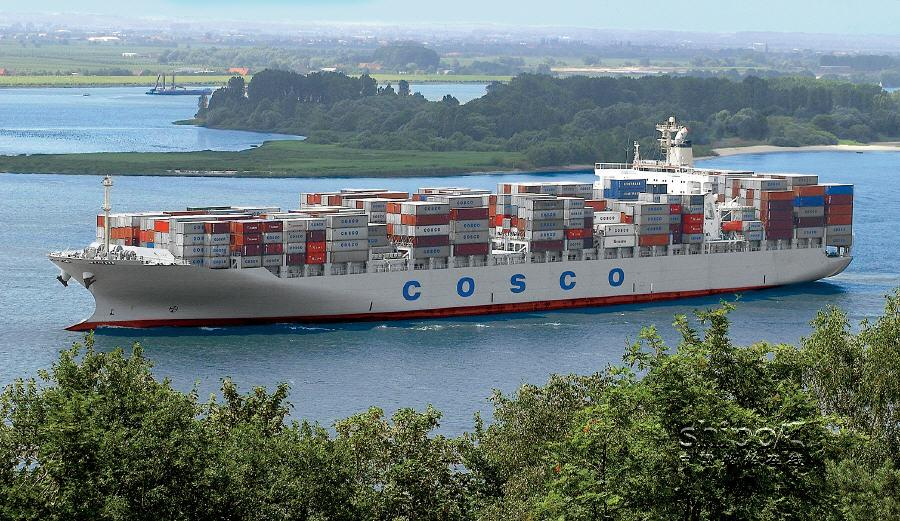Cargoship: (37, 109, 858, 332)
